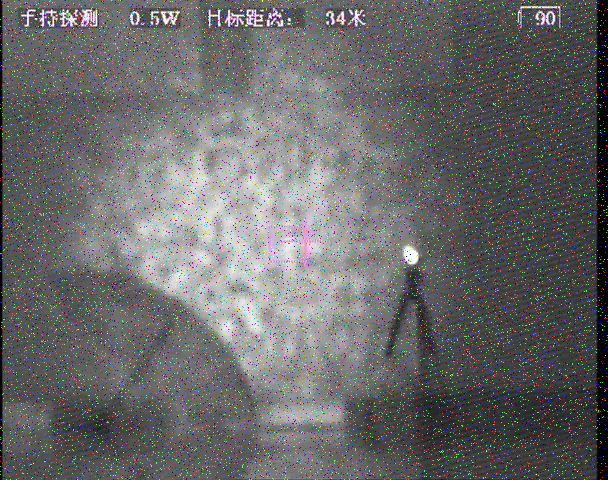my: (402, 243, 422, 265)
